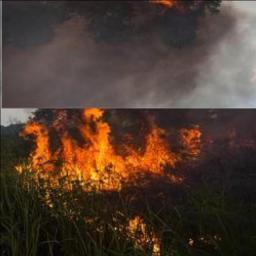Heavy smoke: (0, 0, 255, 108)
Large fire: (9, 98, 215, 255)
